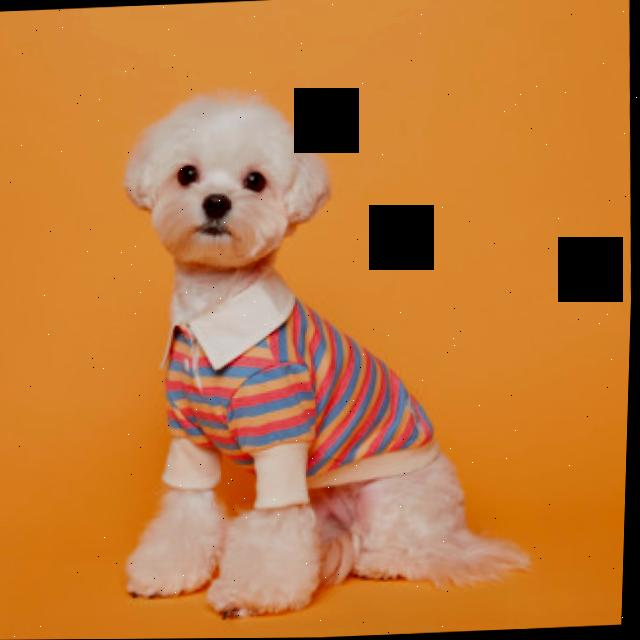cloth: (168, 271, 441, 507)
